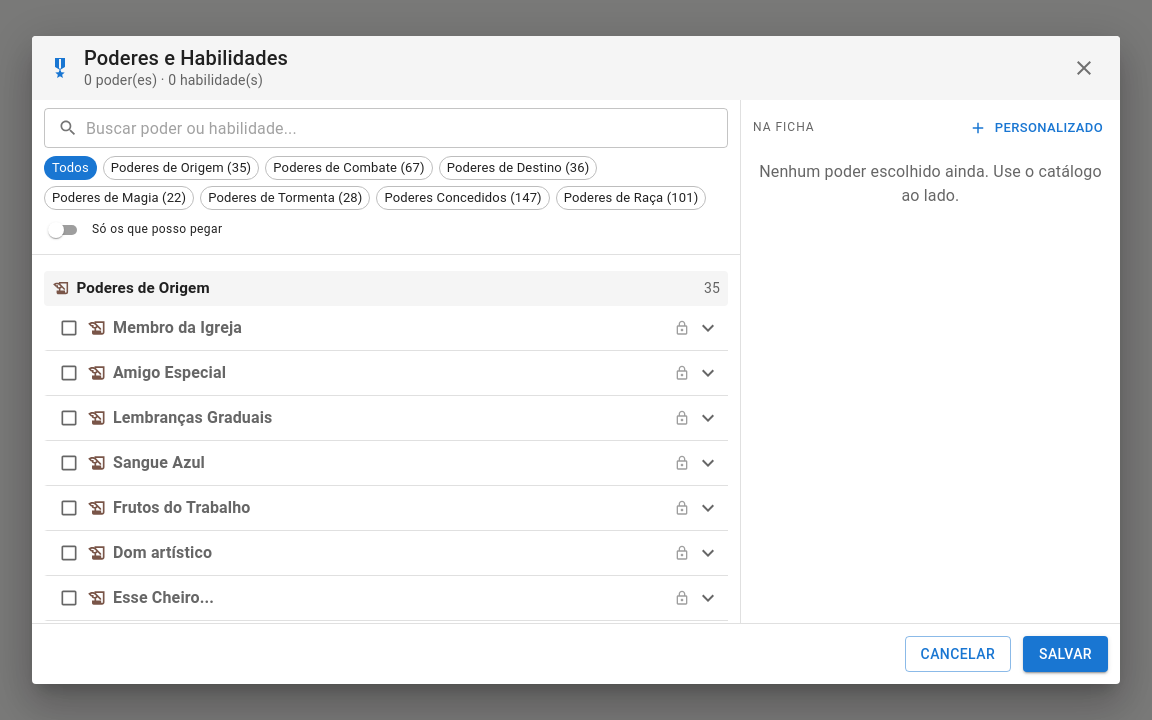
Test: PowersEditorModal › a busca achata os grupos e um único resultado aparece sozinho
The image size is (1152, 720).
Step 1. Type "Ataque Poderoso" into the field with placeholder "Buscar poder ou habilidade..." → coordinates (407, 128), box [86,108,728,148]
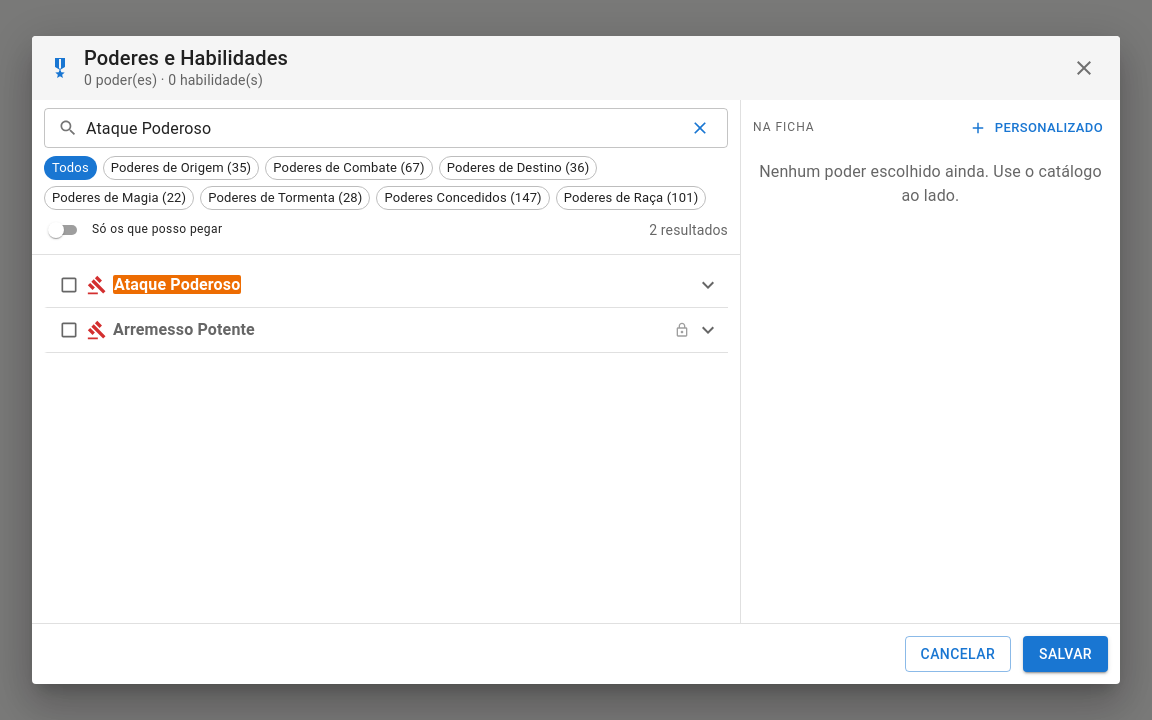
Result: the text "2 resultados" is shown at [649,220,728,240]
